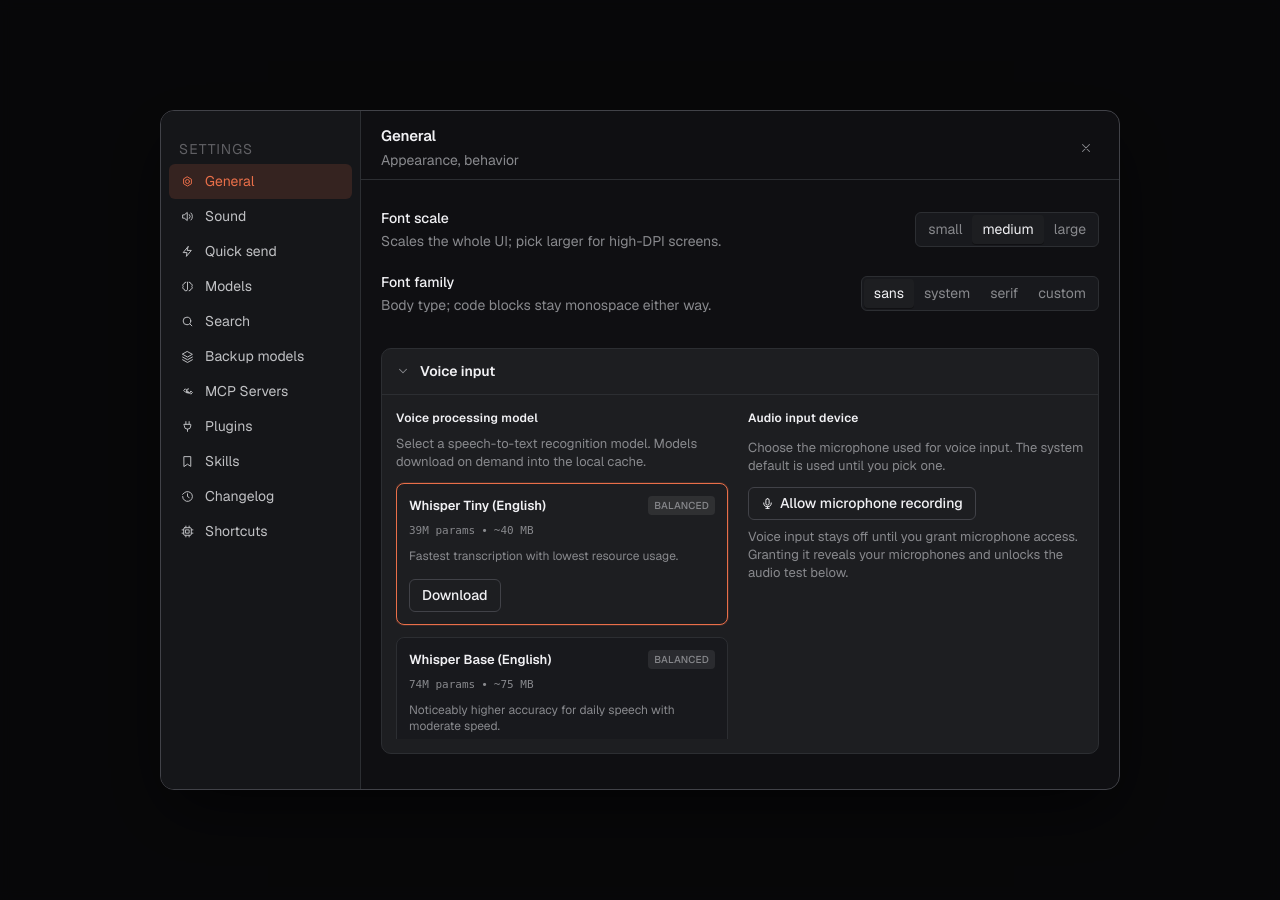
Test: settings Shortcuts page › is reachable from the nav and lists the quick-send hotkeys there
Click the text "Shortcuts" at point(236, 532), box [205,521,268,542]
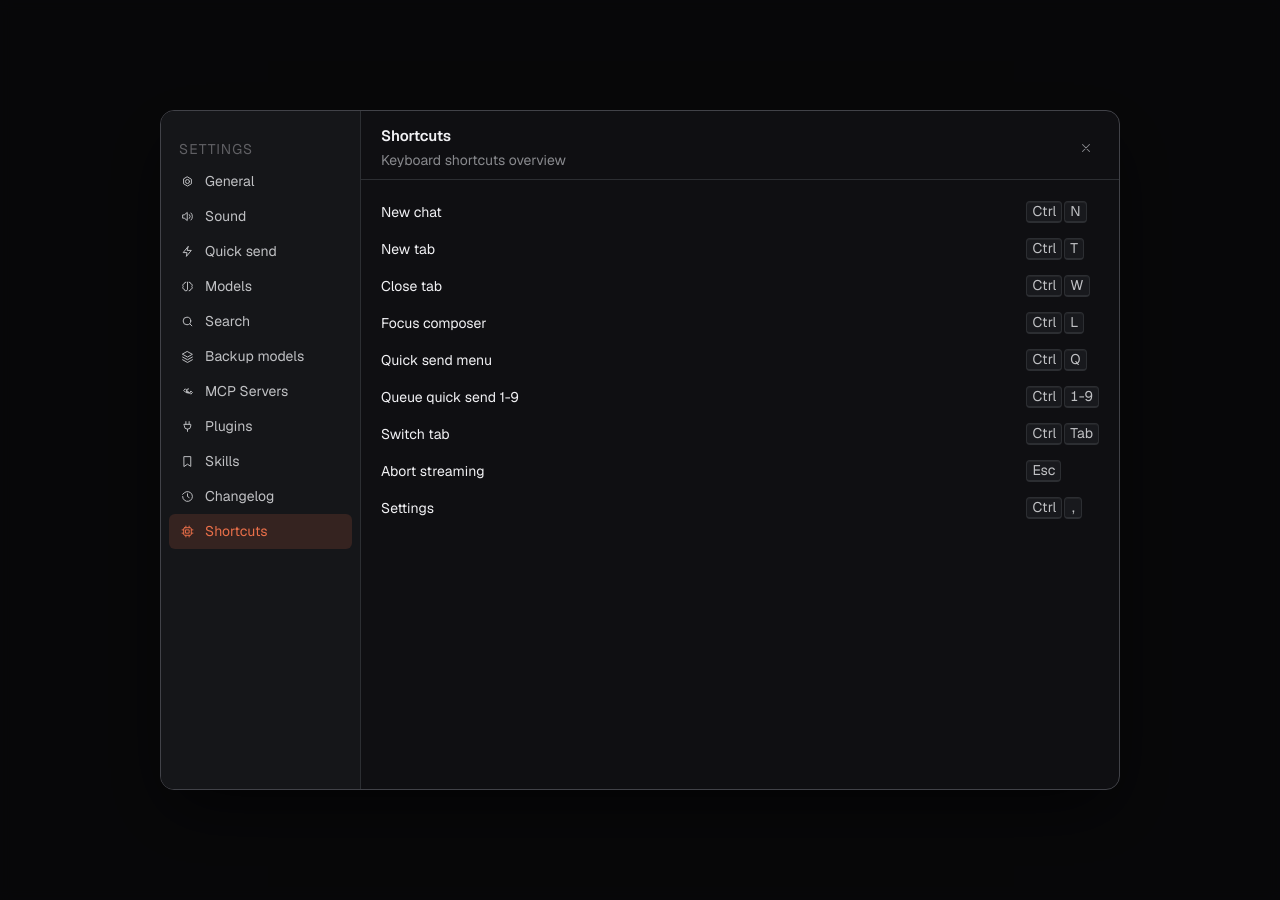
Check: the text "Keyboard shortcuts overview" is shown, box [381,150,566,170]
